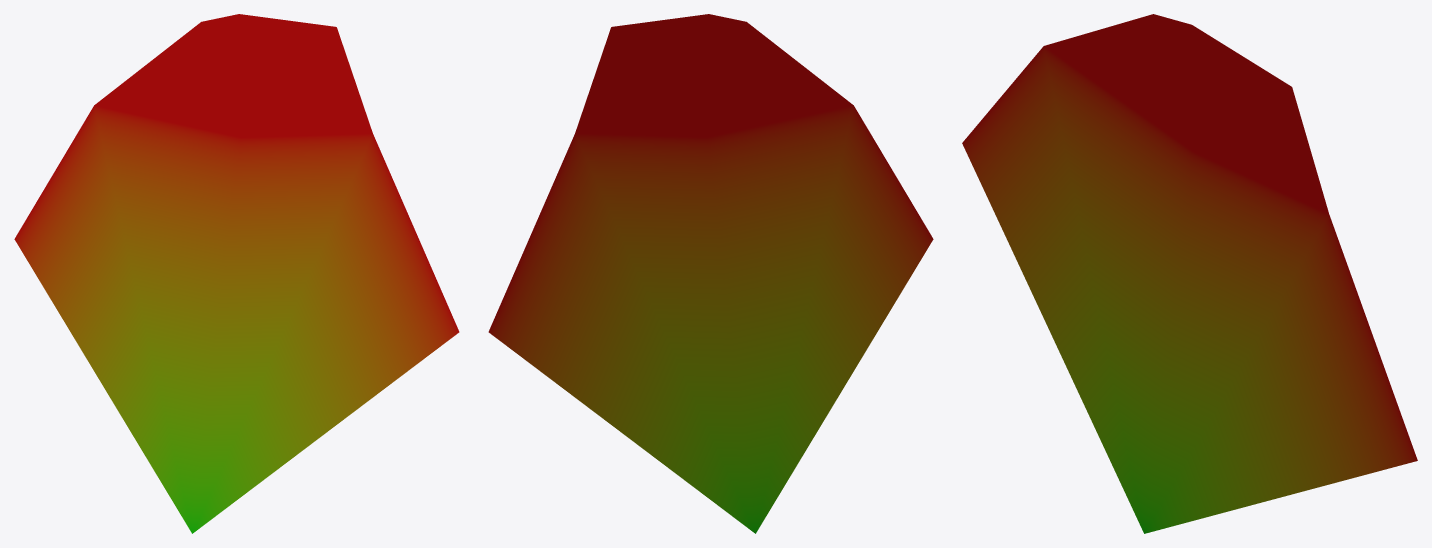
Rendered from Black Locust_LOD4_Var9.fbx.
3 renders of one model, left to right at view 1: azimuth 30°, elevation 25°; view 2: azimuth 150°, elevation 25°; view 3: azimuth 330°, elevation 25°, orthographic. The views are drawn at different scales.
Parts seen in each view (by area): view 1: _7zz4_Var9_LOD4; view 2: _7zz4_Var9_LOD4; view 3: _7zz4_Var9_LOD4.
Boxes of the visible parts, x1=… form: _7zz4_Var9_LOD4: x1=14, y1=14, x2=459, y2=533; _7zz4_Var9_LOD4: x1=488, y1=14, x2=933, y2=533; _7zz4_Var9_LOD4: x1=962, y1=14, x2=1417, y2=533.
Size of the model in its own units: 96.59 by 106 by 1.02e-10.
